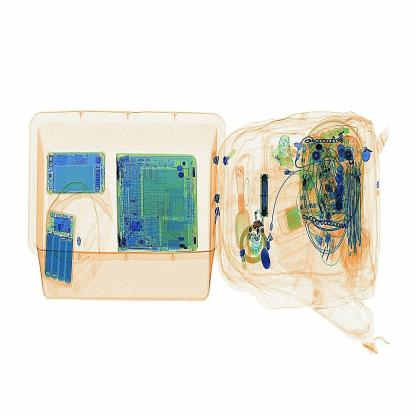scissors: (254, 166, 281, 232)
